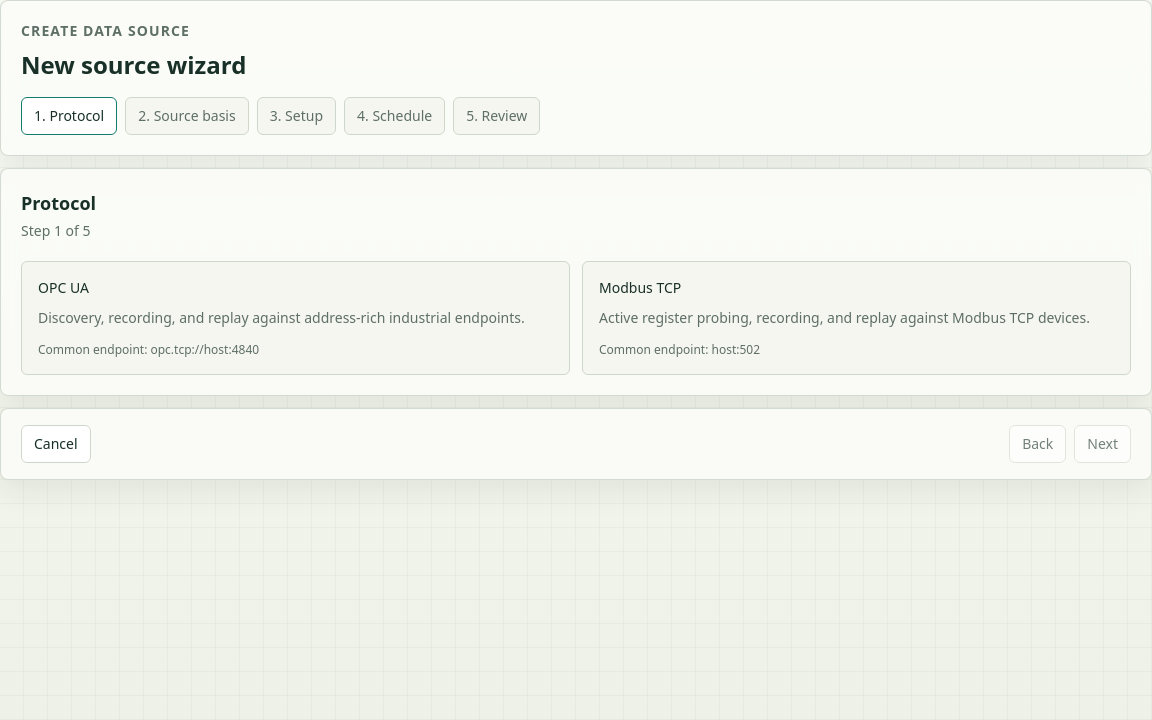
Test: CreateDataSourceWizardPage — scan step (UI-458) › transitions to complete state after polling returns OK
The image size is (1152, 720).
Click the text "OPC UA": [63, 288] box [38,278,89,297]
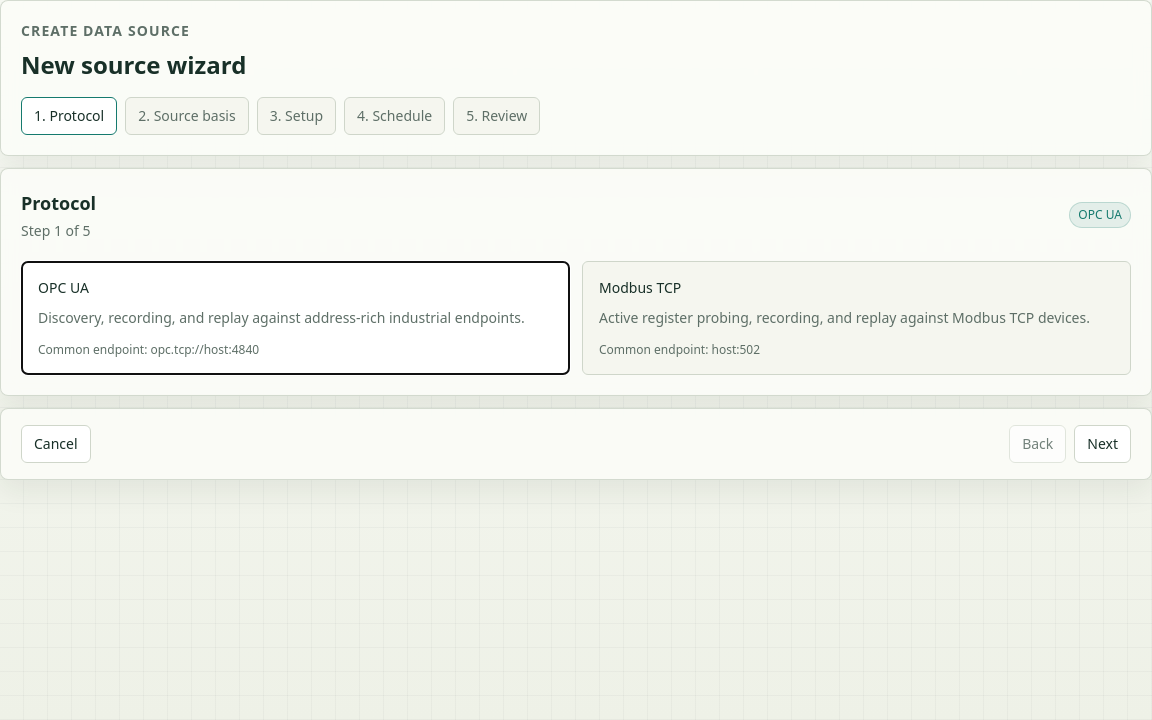
Click the button "Next": [1103, 444] box [1074,425,1131,463]
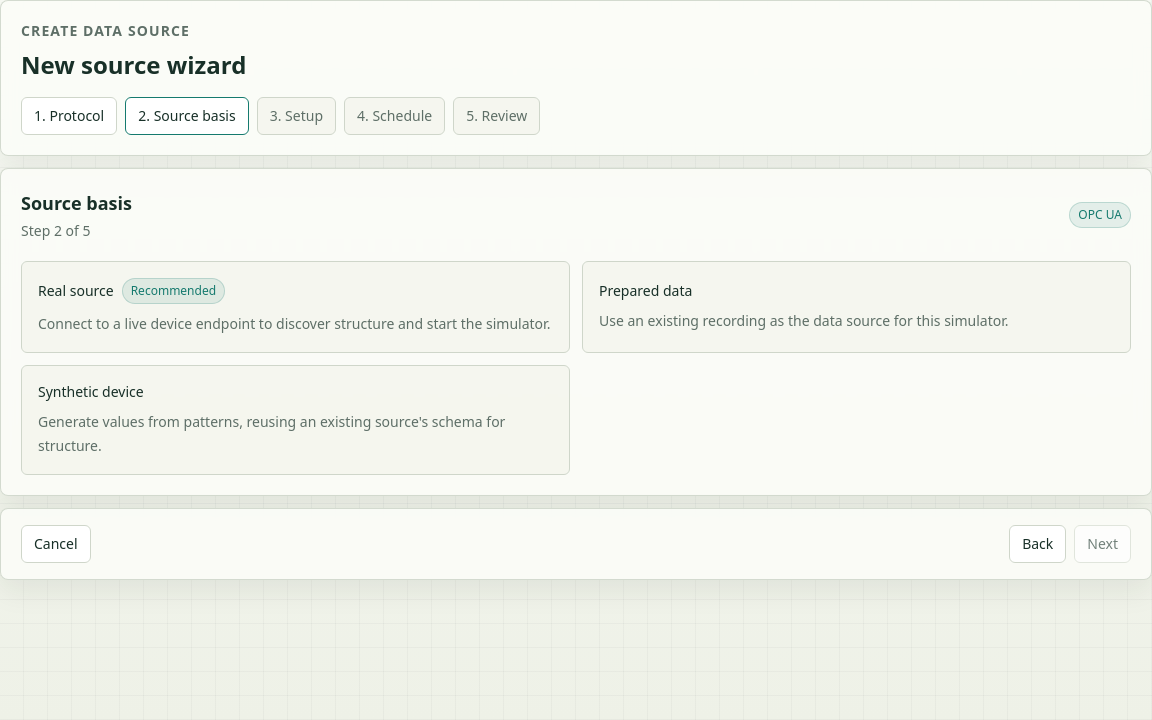
Click the text "Real source": [76, 291] box [38,281,114,301]
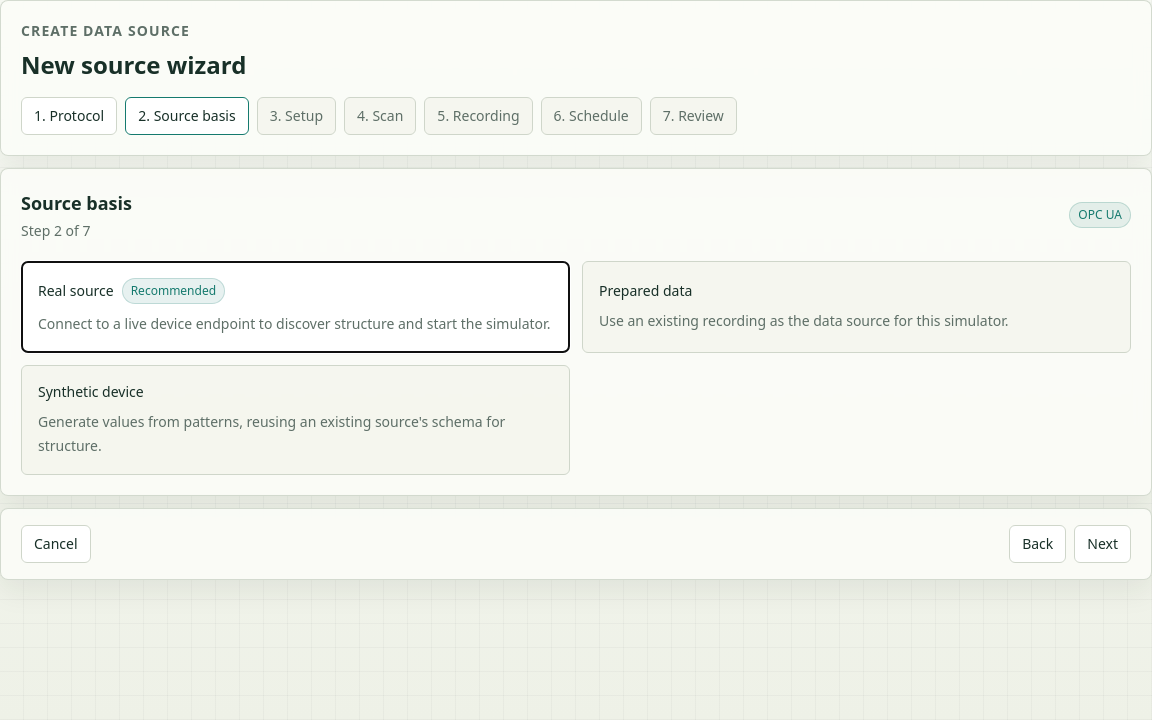
Click the button "Next": [1103, 544] box [1074,525,1131,563]
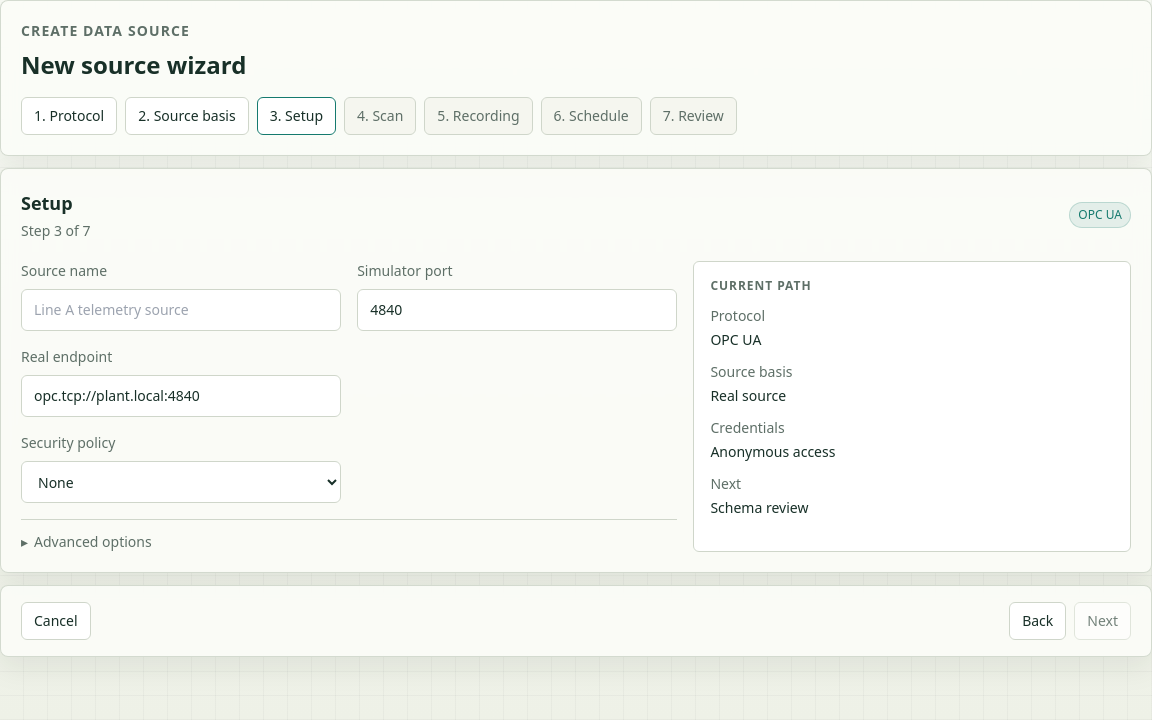
In the field labelled "Source name": [181, 310] box [21,289,341,331], type "Test source"
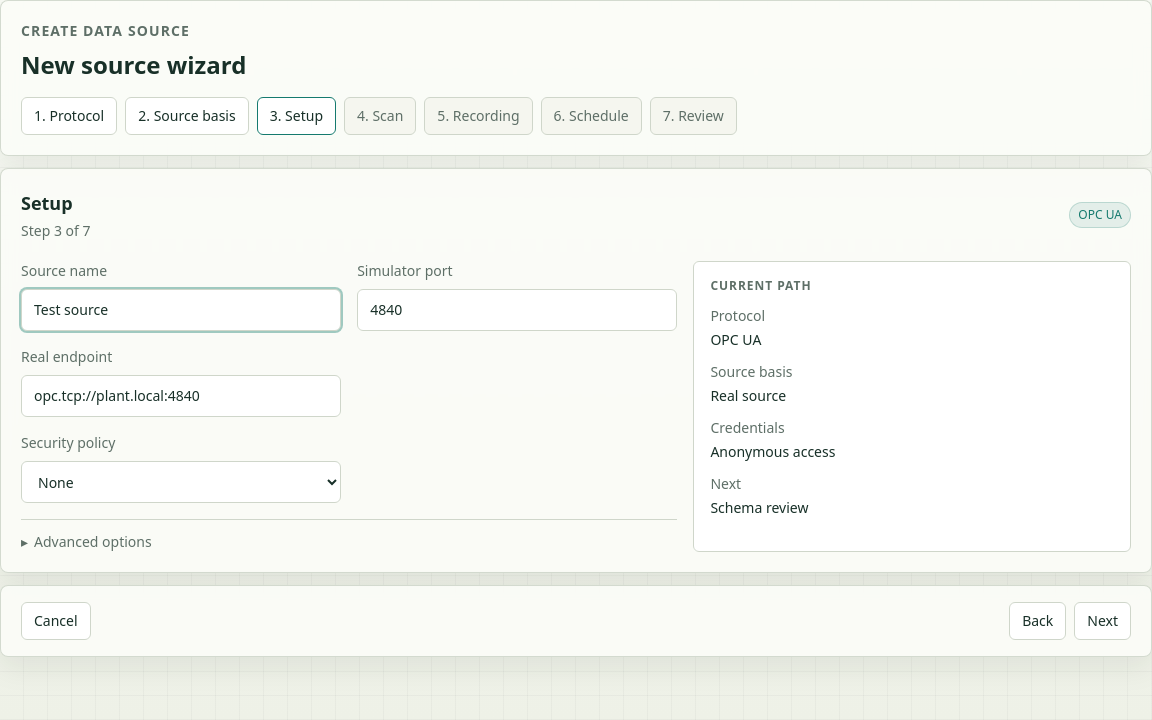
Click the button "Next": [1103, 621] box [1074,602,1131,640]
Wait 2000 ms
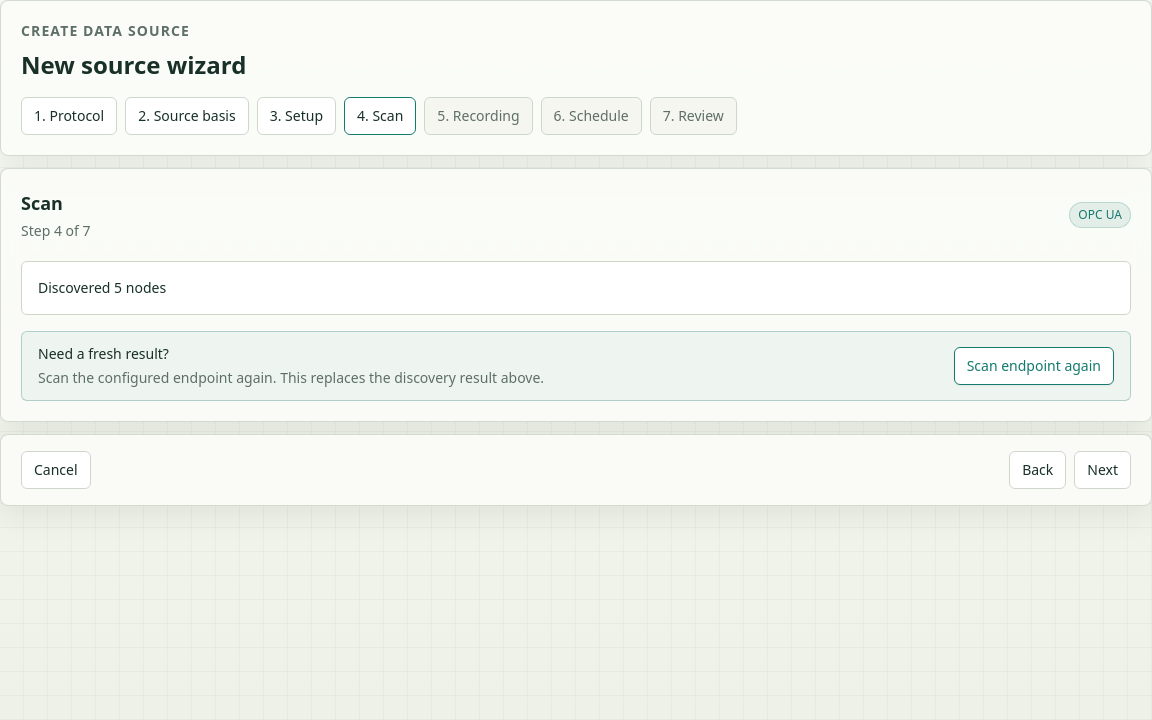
expect the text "Discovered 5 nodes" is shown: met, box [38,278,166,297]
